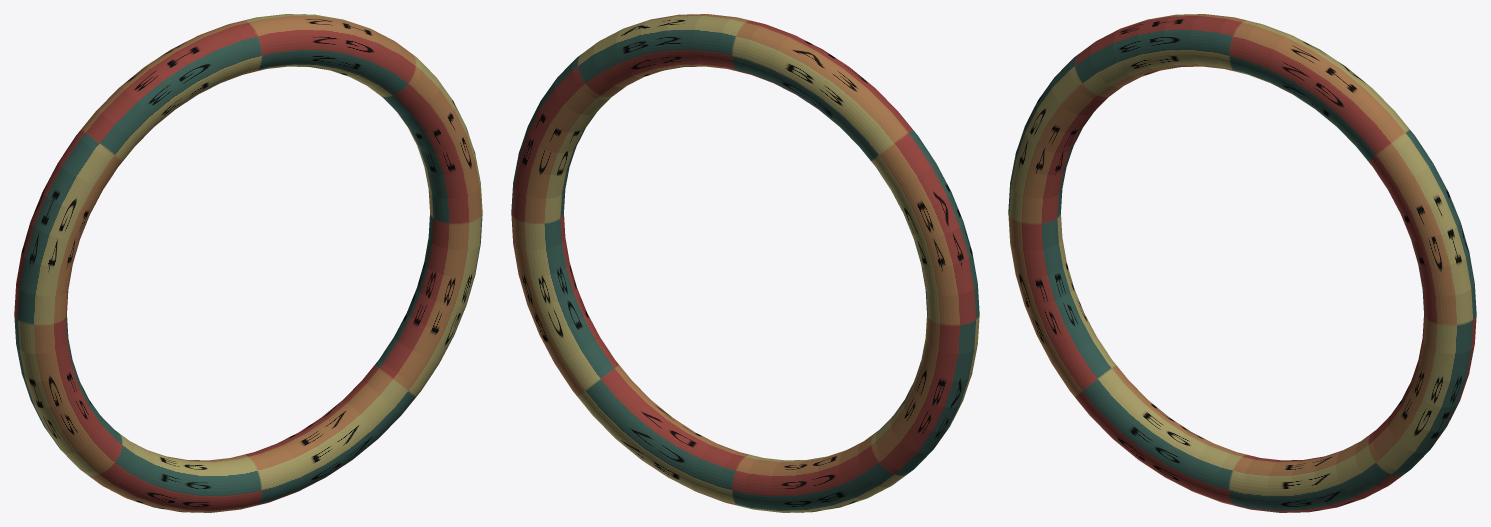
The model's file is texture_torus_R16_r1.glb.
3 views of the same model, side by side, from view 1: azimuth 30°, elevation 25°; view 2: azimuth 150°, elevation 25°; view 3: azimuth 330°, elevation 25° (orthographic).
Parts seen in each view (by area): view 1: world; view 2: world; view 3: world.
Part boxes in pixels (bbox=[...]): world: bbox=[14, 14, 482, 512]; world: bbox=[511, 14, 979, 512]; world: bbox=[1008, 14, 1476, 512].
Bounding box in the file's own units: 22.93 × 22.89 × 2.26.
1 material, 1 textured.
